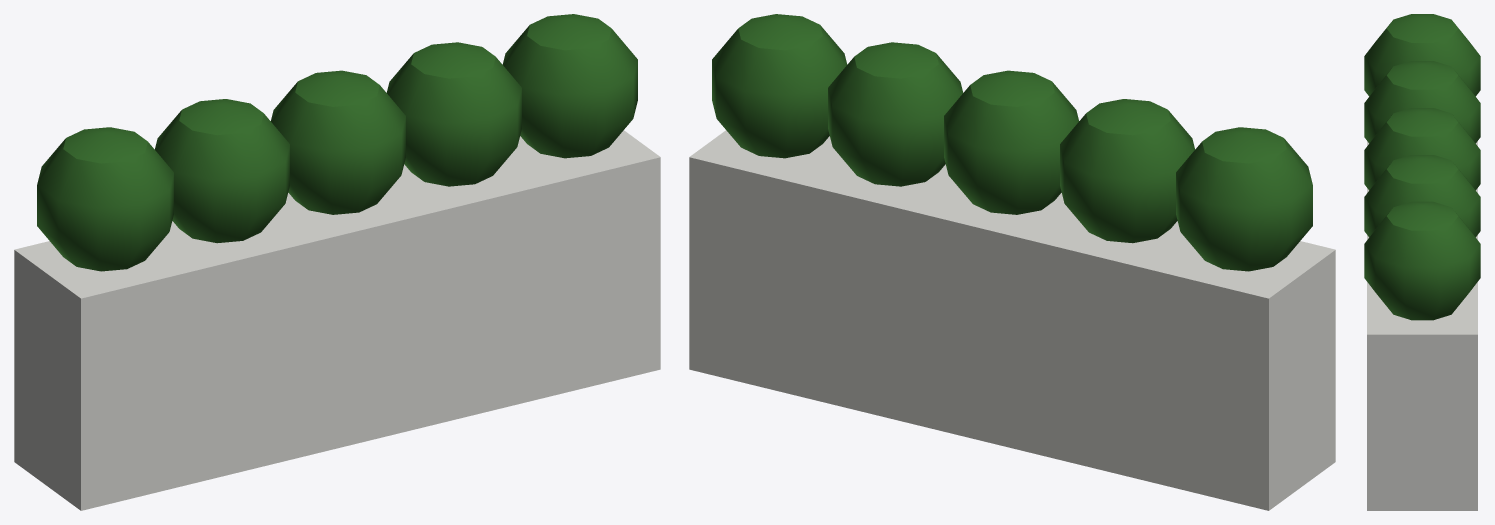
File: office.planter.long.glb
3 renders of one model, left to right at view 1: azimuth 30°, elevation 25°; view 2: azimuth 150°, elevation 25°; view 3: azimuth 270°, elevation 25°, orthographic. The views are drawn at different scales.
Parts seen in each view (by area): view 1: main__laminate_white, main__foliage; view 2: main__laminate_white, main__foliage; view 3: main__foliage, main__laminate_white.
Part boxes in pixels (<box>): main__laminate_white: <box>14,130,660,510</box>; main__foliage: <box>37,14,637,271</box>; main__laminate_white: <box>689,130,1335,510</box>; main__foliage: <box>712,14,1312,271</box>; main__foliage: <box>1364,14,1480,320</box>; main__laminate_white: <box>1367,141,1477,510</box>.
Bounding box in the file's own units: 2 × 1.12 × 0.4185.
